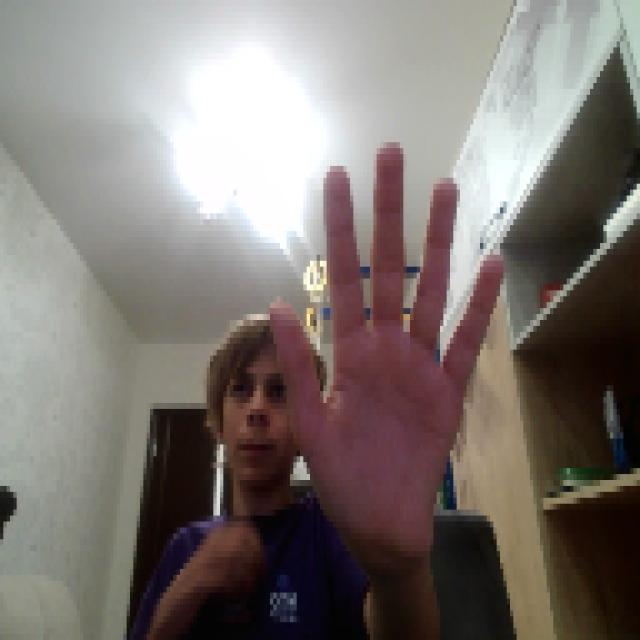hand: (267, 136, 500, 557)
